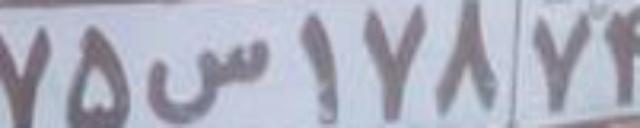1: (296, 13, 339, 124)
4: (604, 6, 639, 108)
5: (60, 23, 132, 126)
7: (360, 2, 427, 124), (531, 11, 591, 114), (0, 27, 47, 126)
8: (436, 0, 498, 116)
sin: (148, 38, 270, 123)
